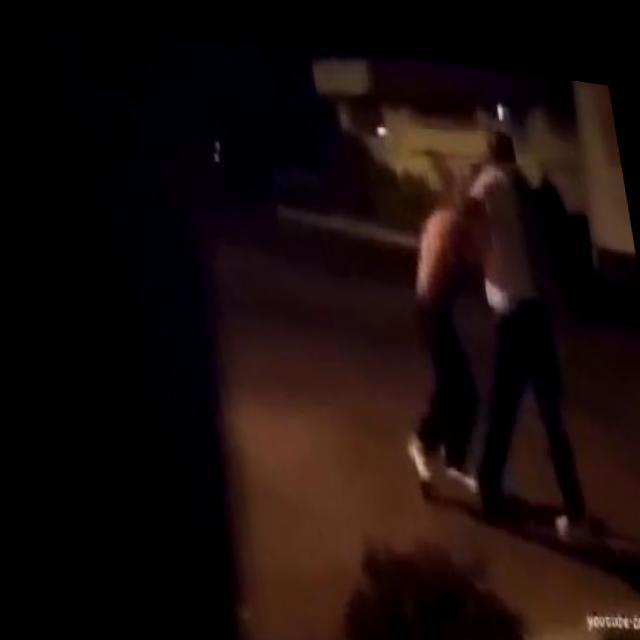fight: (355, 89, 591, 540)
